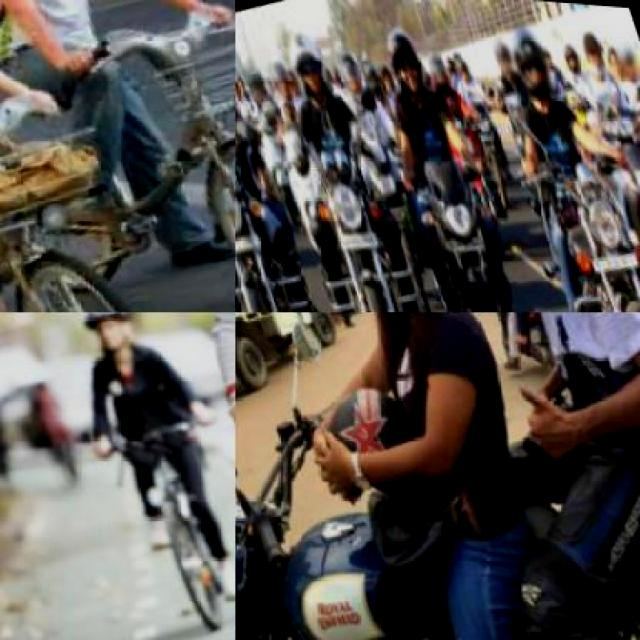With Helmet: (498, 10, 560, 101), (275, 17, 336, 103), (374, 11, 432, 94), (72, 312, 148, 357), (608, 15, 638, 77), (576, 15, 610, 66), (337, 46, 366, 96), (268, 54, 298, 100), (446, 37, 476, 83), (426, 46, 454, 91), (491, 29, 518, 74), (360, 54, 386, 95), (559, 28, 584, 70), (246, 70, 269, 102)
